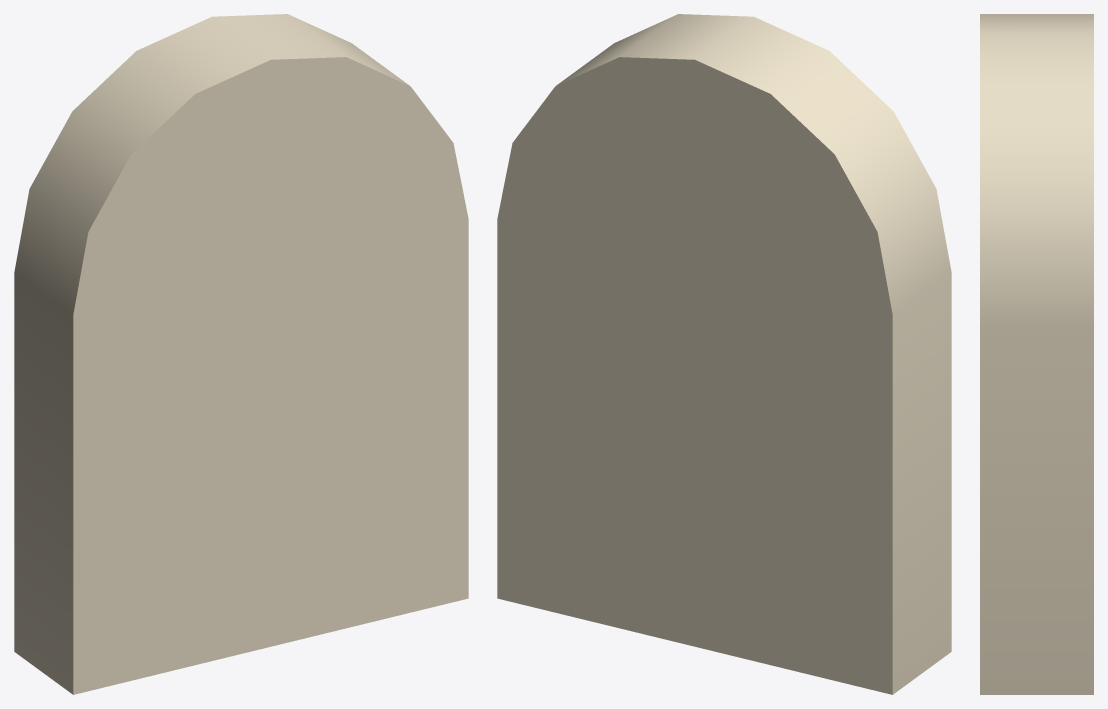
The model's file is nerve_token_tablet.glb.
3 renders of one model, left to right at view 1: azimuth 30°, elevation 25°; view 2: azimuth 150°, elevation 25°; view 3: azimuth 270°, elevation 25°, orthographic. The views are drawn at different scales.
Parts seen in each view (by area): view 1: nerve_token_tablet; view 2: nerve_token_tablet; view 3: nerve_token_tablet.
Part boxes in pixels (x1,y1,x2,y2): nerve_token_tablet: [14, 14, 468, 694]; nerve_token_tablet: [497, 14, 951, 694]; nerve_token_tablet: [980, 14, 1093, 694].
Bounding box in the file's own units: 0.062 × 0.088 × 0.016.
